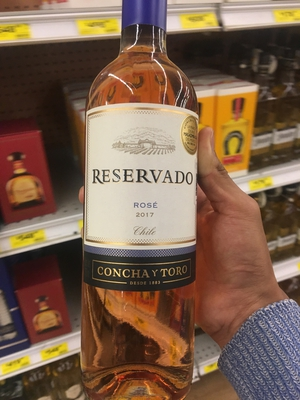reservado rose: (80, 26, 200, 400)
